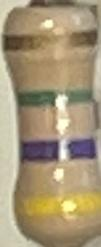Blue: (20, 137, 95, 163)
Green: (16, 86, 94, 110)
Side-Silver: (2, 27, 99, 54)
